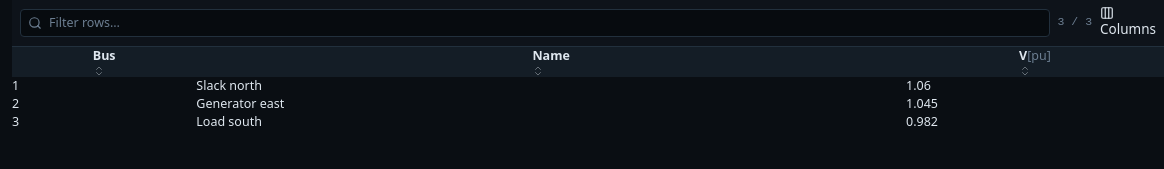
Test: DataTable › hides a column through the column selector
Click the button with aria-label "choose columns" at x=1128, y=23, box [1100,6,1156,40]
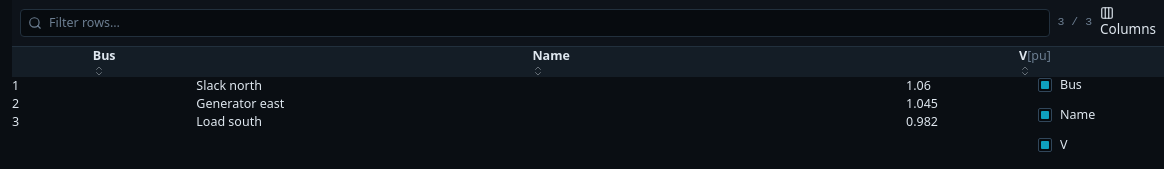
Click the menu item "Name" at x=1067, y=115, box [1038,106,1095,123]
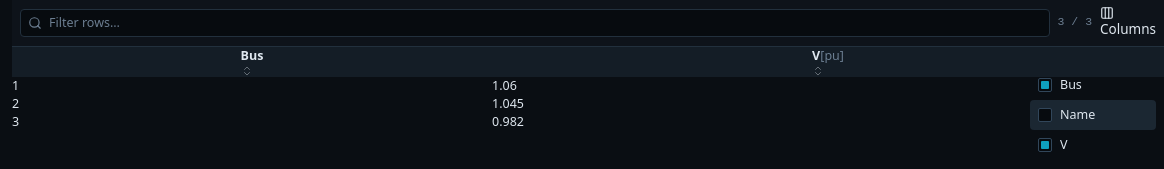
Expected: the text "Load south" is gone
